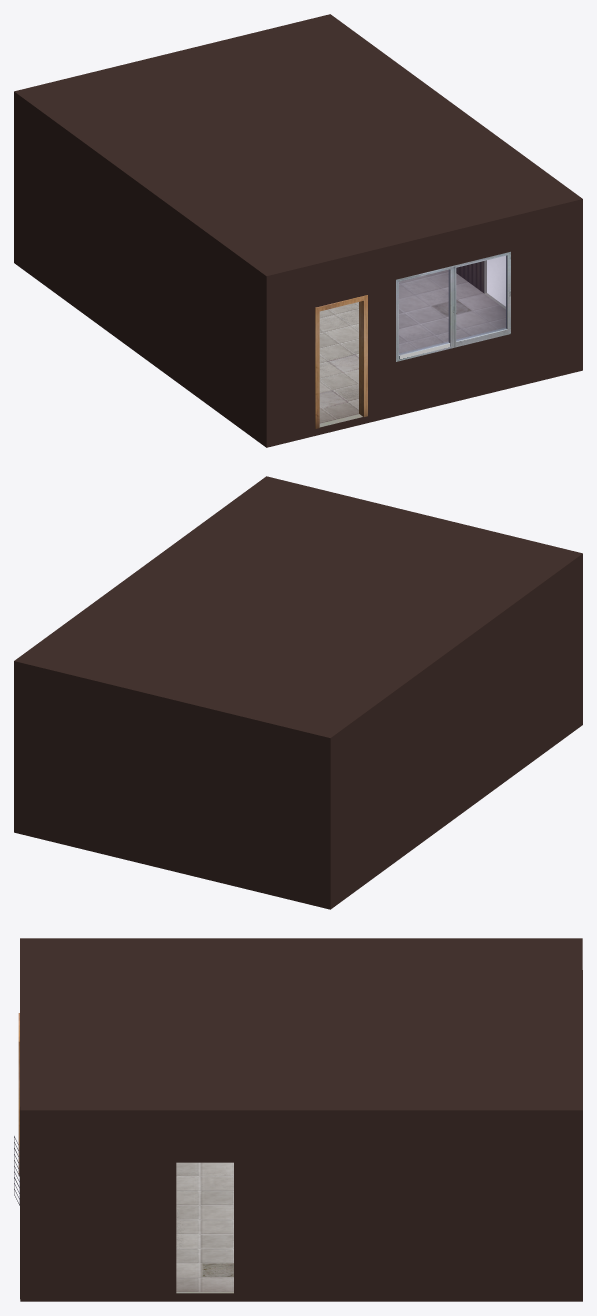
File: MainRoomNew.gltf
3 views of the same model, one above another, from view 1: azimuth 30°, elevation 25°; view 2: azimuth 150°, elevation 25°; view 3: azimuth 270°, elevation 25° (orthographic). The views are drawn at different scales.
Visible parts, largest first — view 1: MainRoom, Glass, OknoRama, Drzwi01; view 2: MainRoom; view 3: MainRoom.
Part boxes in pixels (x1,y1,x2,y2): MainRoom: [14, 14, 582, 447]; Glass: [399, 255, 506, 354]; OknoRama: [396, 251, 510, 361]; Drzwi01: [315, 295, 367, 428]; MainRoom: [14, 476, 582, 909]; MainRoom: [20, 938, 582, 1301].
Bounding box in the file's own units: 5.65 × 2.93 × 7.89.
5 materials, 5 textured.
